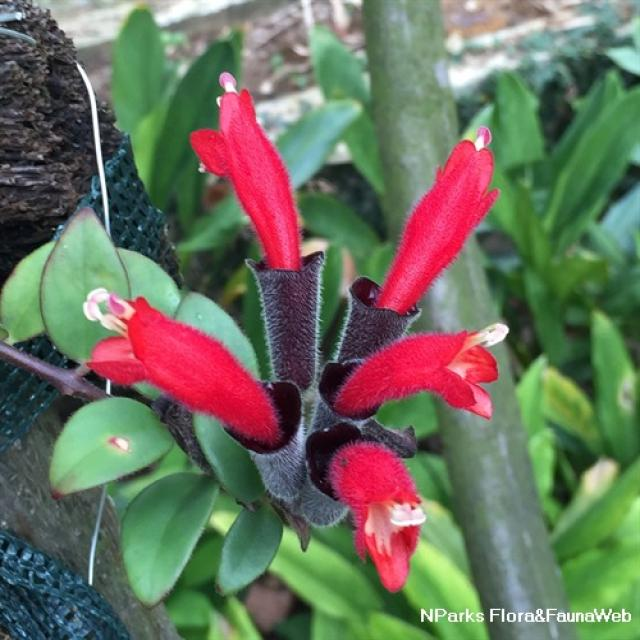Lipstick-Plant: (86, 63, 525, 600)
